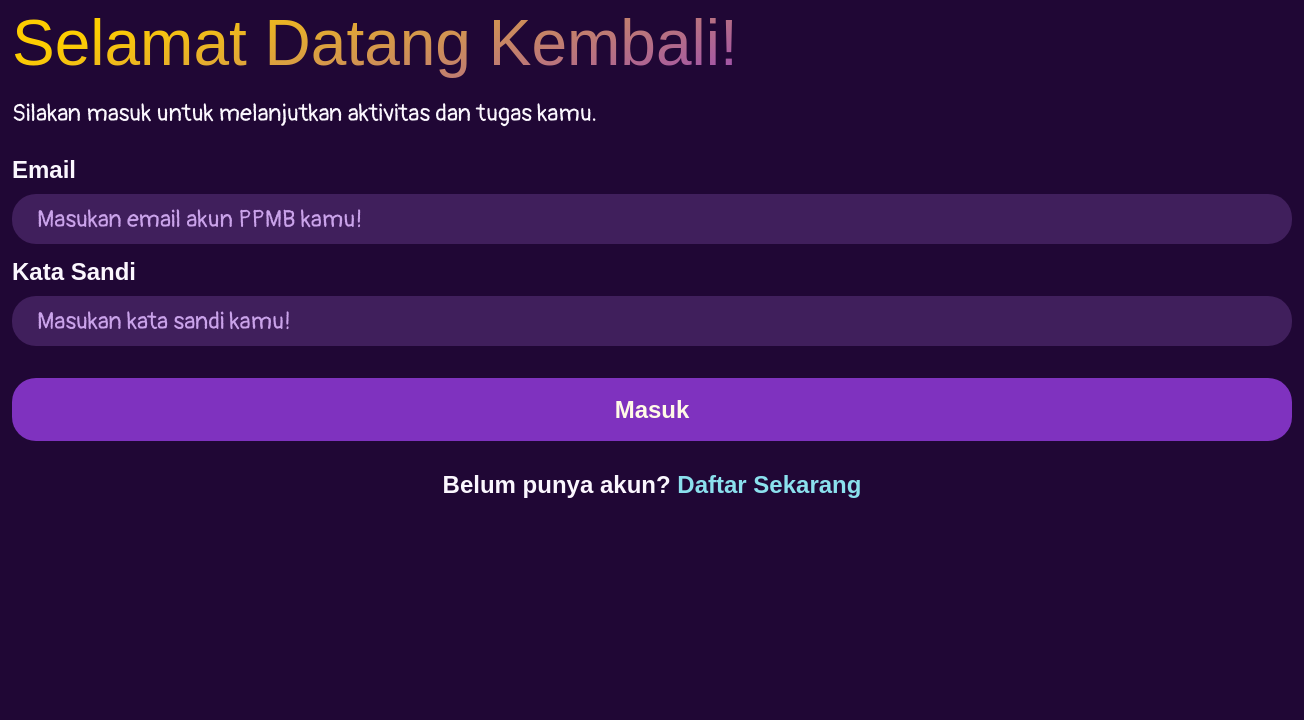
Test case: LoginForm › shows a validation error for a malformed email
The image size is (1304, 720).
Type "not-an-email" into the field labelled "Email" at (652, 219), box left=12, top=194, right=1292, bottom=244
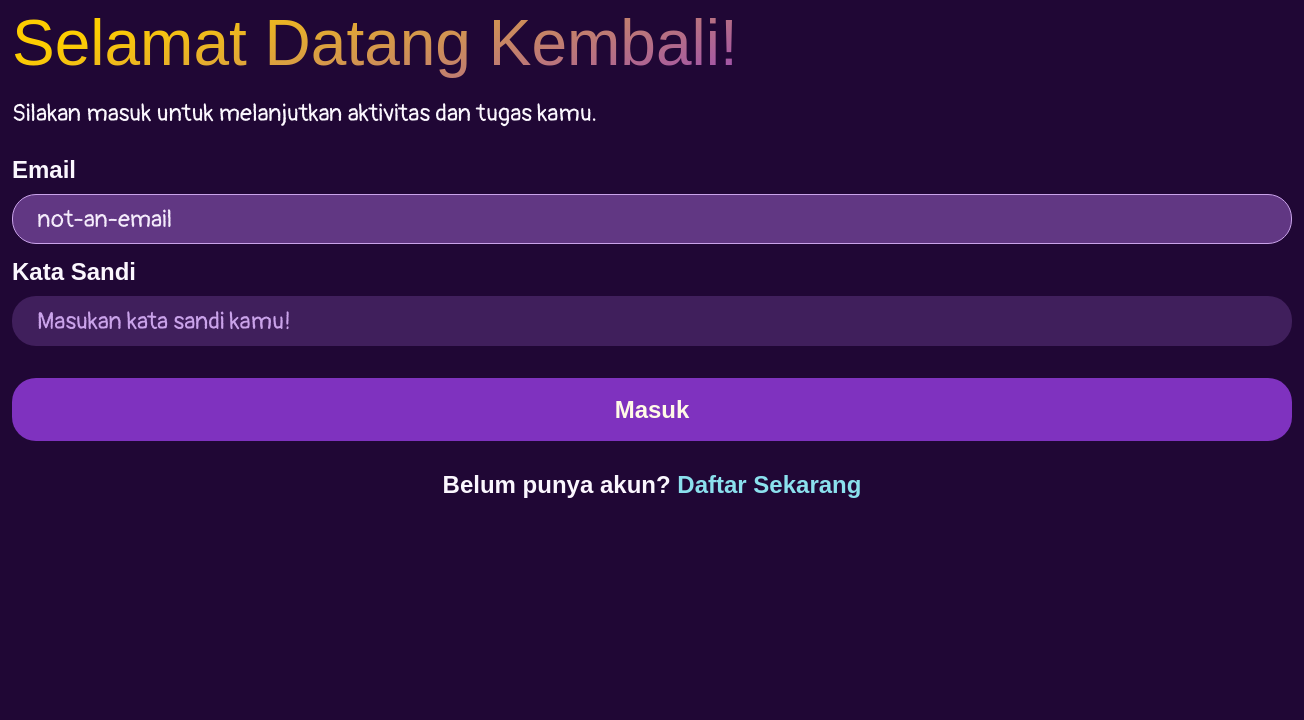
Type "somepassword" into the password field labelled "Kata Sandi" at (652, 321), box left=12, top=296, right=1292, bottom=346
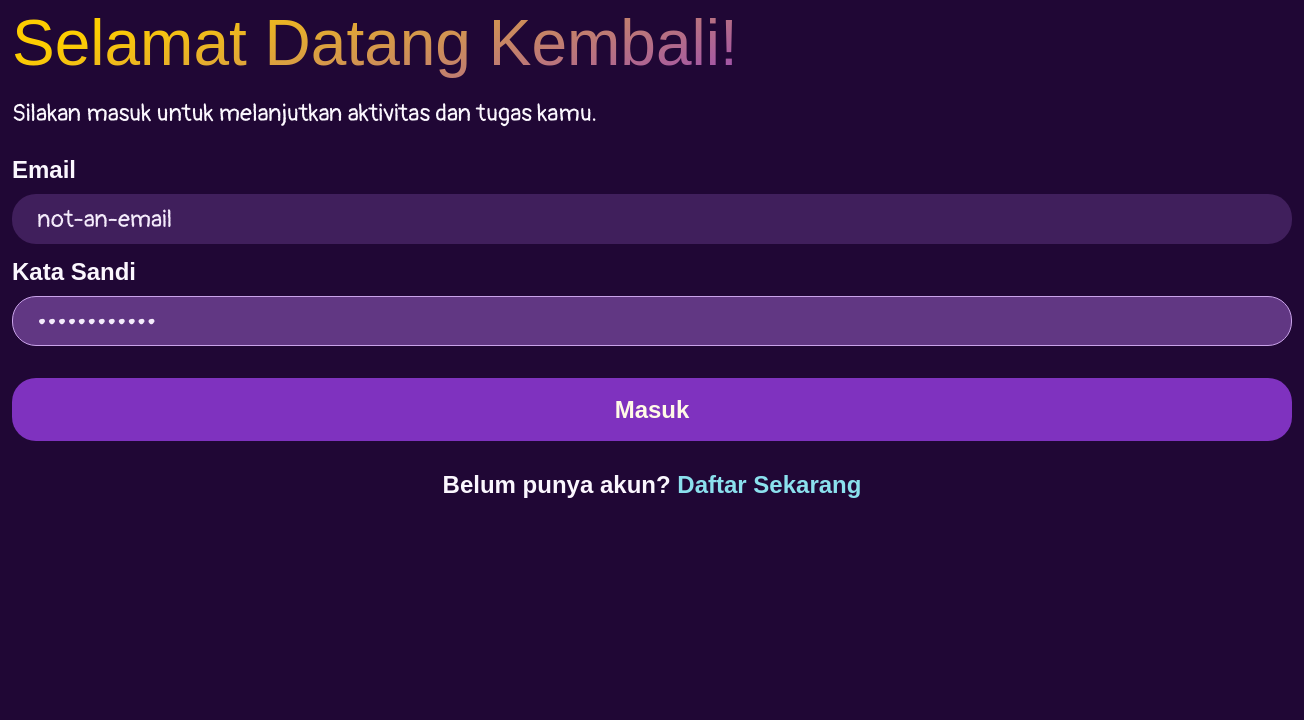
Click the button "Masuk" at (652, 410), box left=12, top=378, right=1292, bottom=441
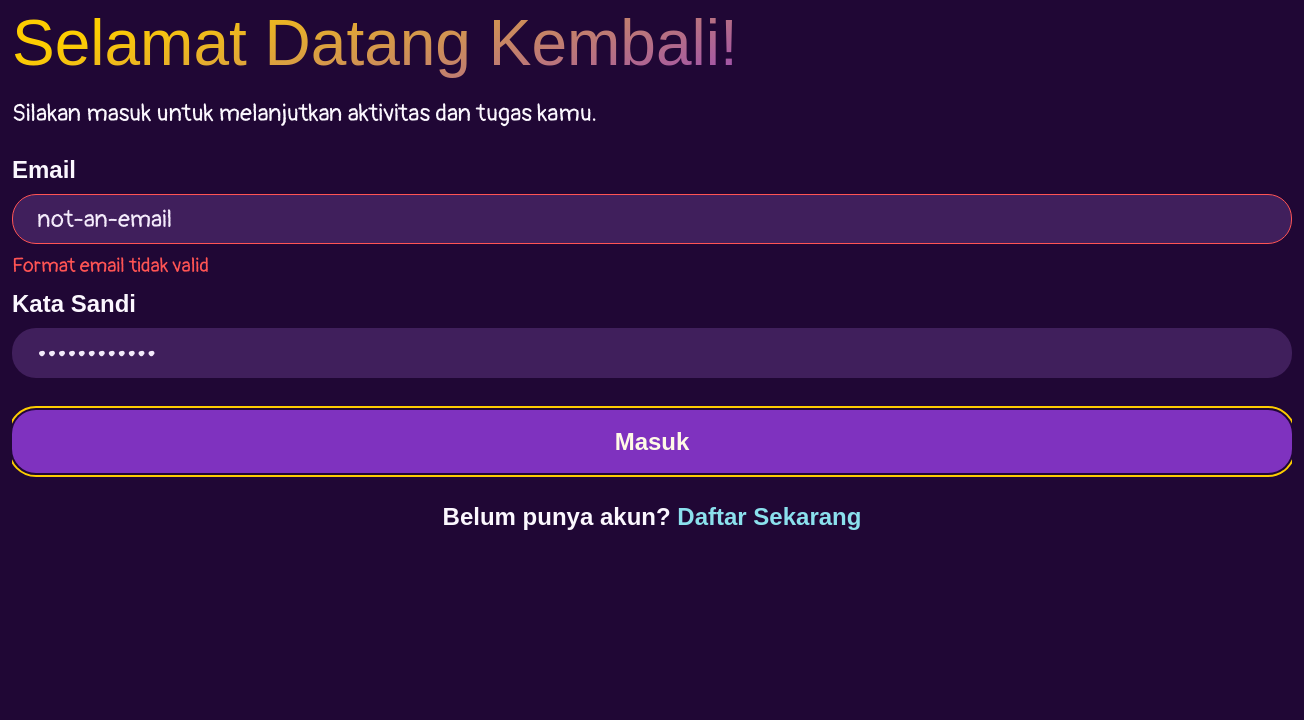
Expected: the text "Format email tidak valid" is shown, left=12, top=253, right=209, bottom=278
